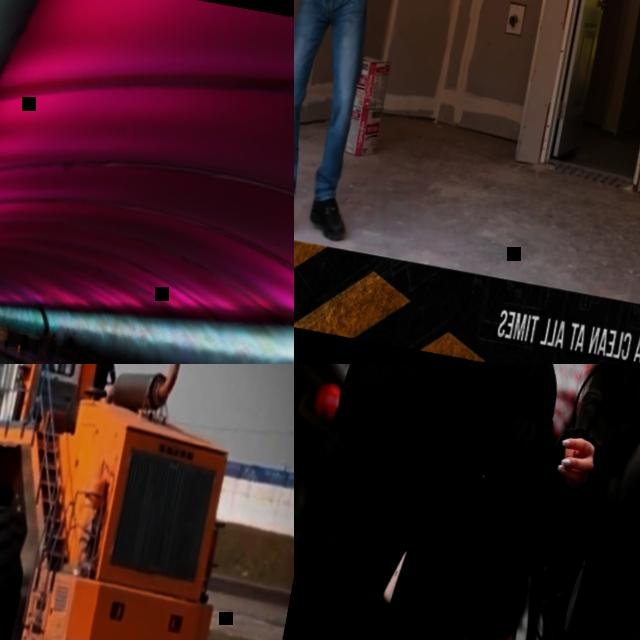NO-Safety Vest: (336, 364, 572, 640), (541, 364, 640, 640)
Person: (294, 364, 640, 640), (514, 364, 640, 640), (294, 0, 433, 247)
machinery: (0, 364, 271, 640)
